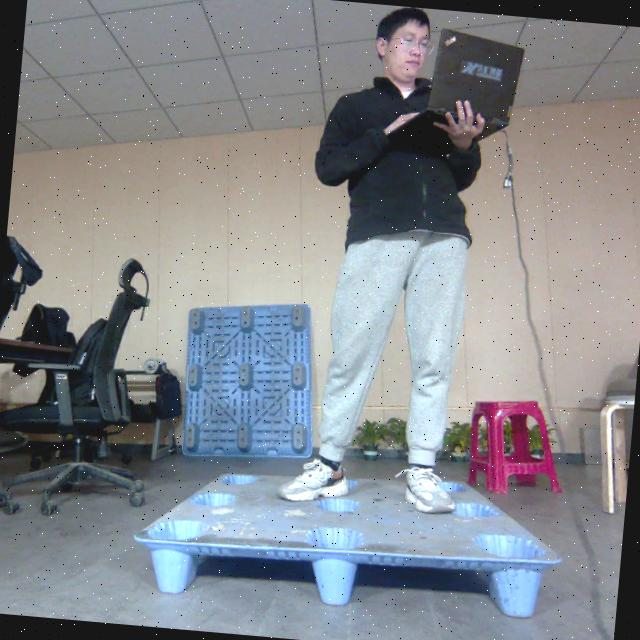block: (487, 559, 560, 619), (140, 540, 201, 592), (312, 553, 359, 606)
front: (134, 535, 564, 617)
hole pallet: (352, 567, 499, 618), (187, 556, 320, 605)
